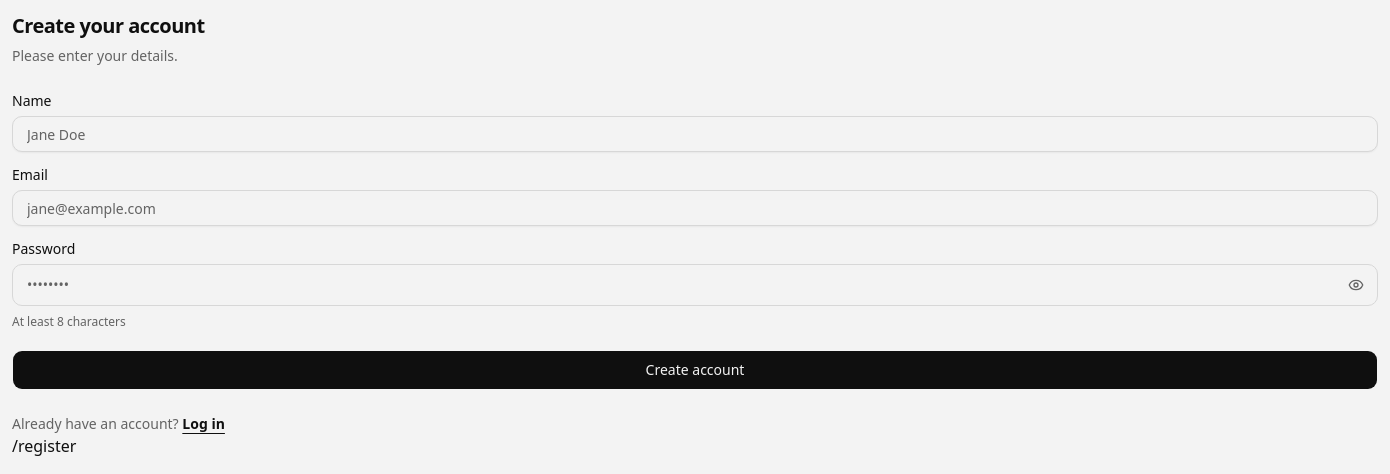
Test: FE-067 · RegisterPage (doc 10 §10.22 PG-01; doc 6 PG-01; doc 11 §11.2.17) › success: registers user, seeds queryKeys.me, and redirects directly to email verification
In the field labelled "Name": (695, 134) [12,116,1378,152], type "Taylor Dev"
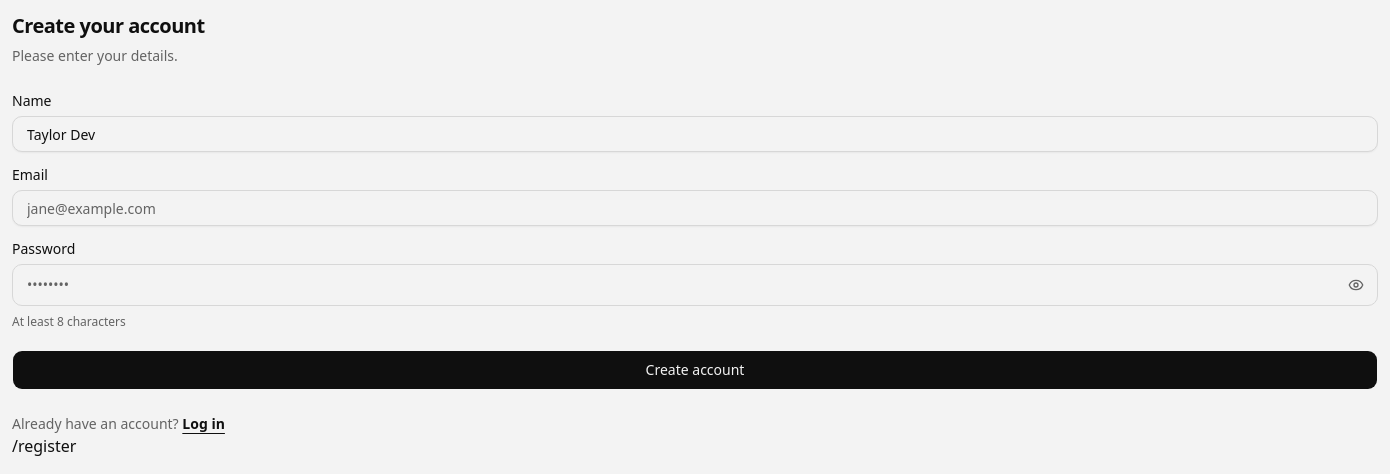
In the field labelled "Email": (695, 208) [12,190,1378,226], type "taylor@example.com"
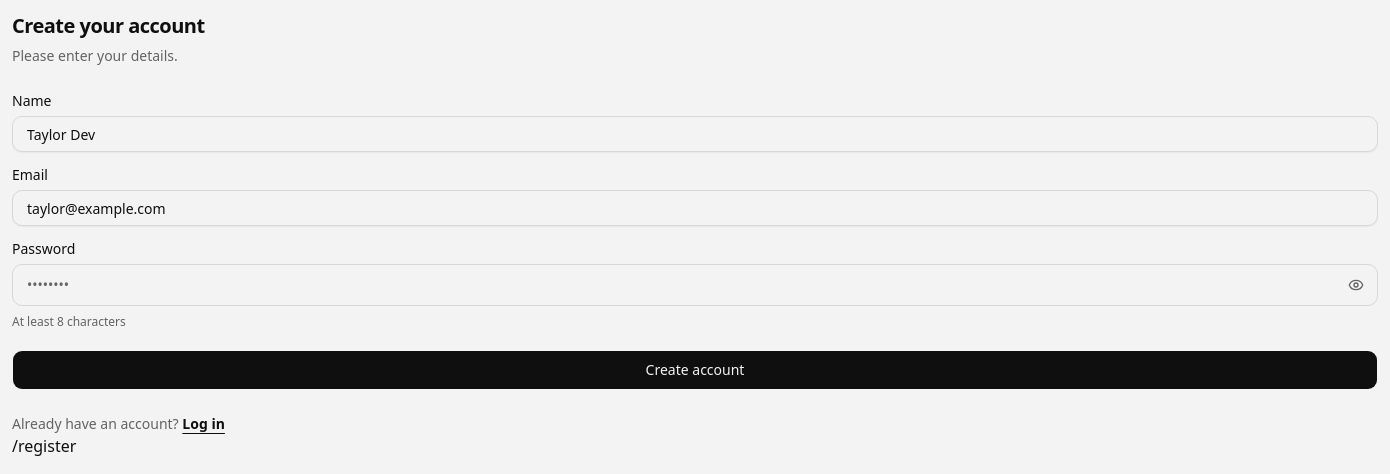
In the password field labelled "Password": (695, 285) [12,264,1378,306], type "password123"
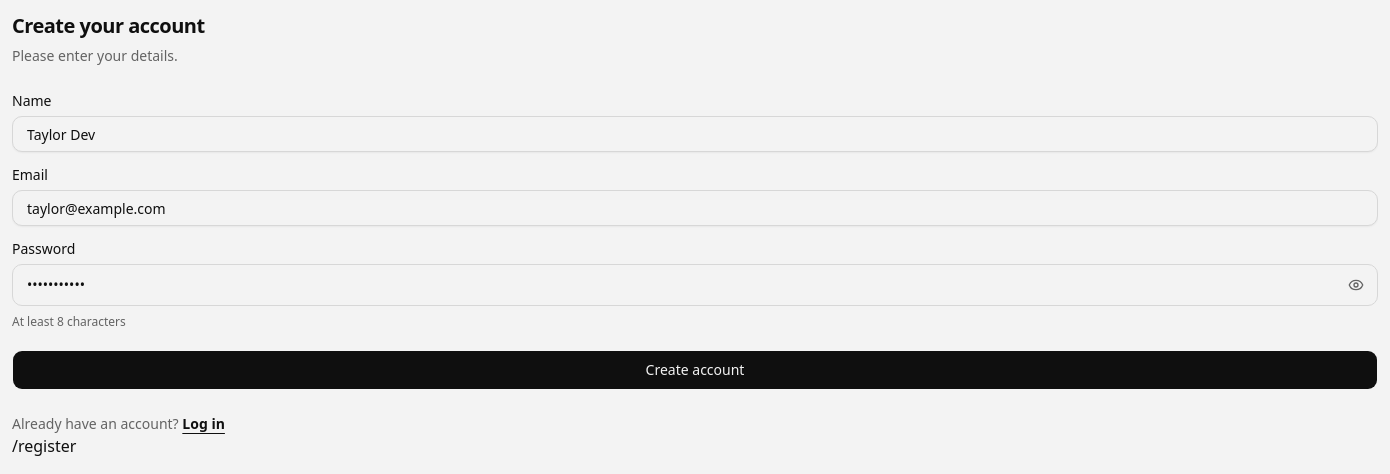
Click the button "Create account": (695, 370) [12,350,1378,390]
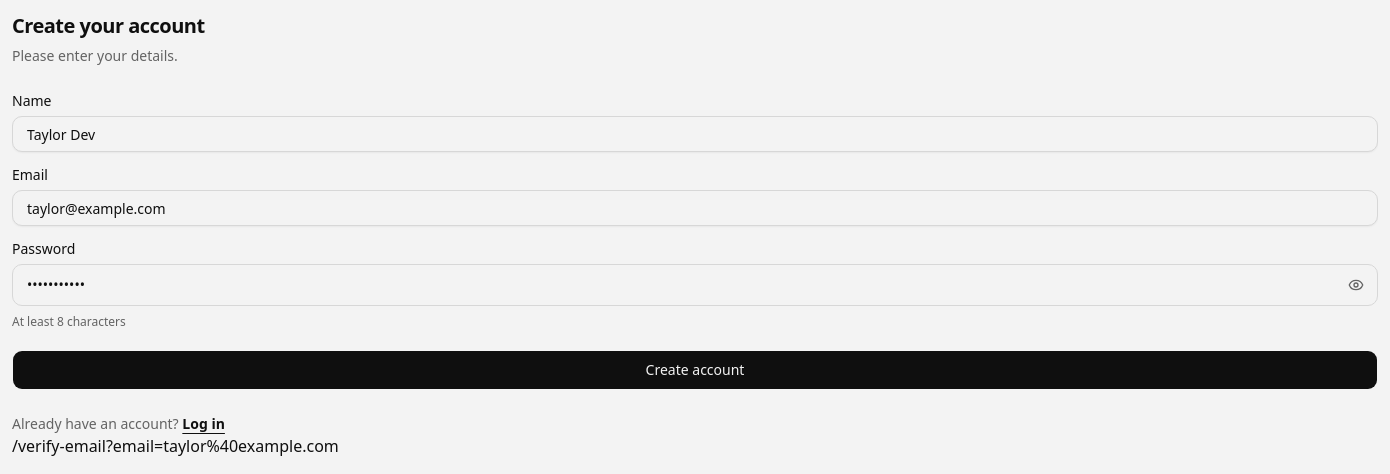
Now the text with test id "current-location" reads "/verify-email?email=taylor%40example.com", box [12,435,339,457]
